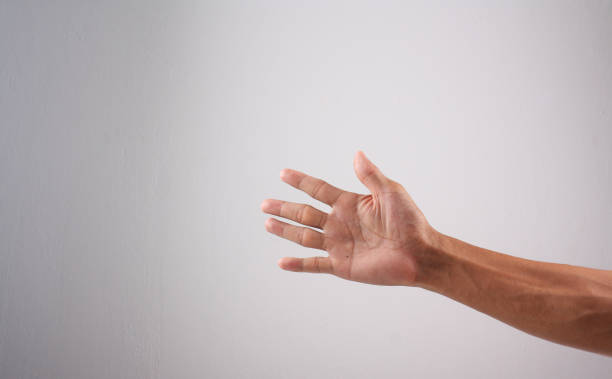hand: (259, 140, 440, 312)
